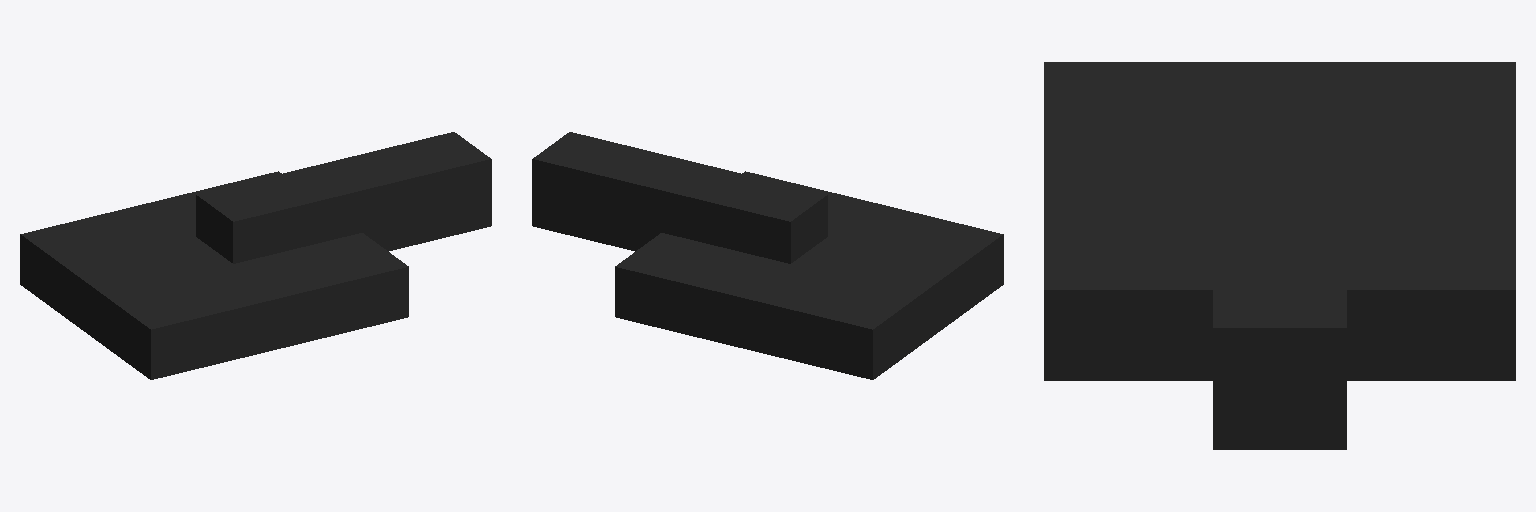
robot.urdf — rover:
<?xml version="1.0" ?>
<robot name="rover">
    <!-- main center object -->
    <link name="base_link">
        <visual>
            <geometry>
                <box size="0.4 0.35 0.075"/>
            </geometry>
            <material name="gray">
                <color rgba="0.2 0.2 0.2 1"/>
            </material>
        </visual>
        <inertial>
            <mass value="2"/>
            <inertia ixx="0.04" ixy="0.0" ixz="0.0" iyy="0.17" iyz="0.0" izz="0.25" />
            <!--<inertia ixx="0.04" ixy="0.0" ixz="0.0" iyy="0.17" iyz="0.0" izz="0.25" />-->
        </inertial>

        <collision>
            <geometry>
                <box size="0.4 0.35 0.1"/>
            </geometry>
        </collision>
    </link>

    <!-- Robot Footprint -->
    <link name="base_footprint"/>

    <link name = "wall_link">
        <visual>
            <geometry>
                <box size = "0.4 0.1 0.1"/>
            </geometry>
            <material name = "gray">
                <color rgba = "0.2 0.2 0.2 1"/>
            </material>
            <interial>
                <mass value = "0.5"/>
                <!--w = 0.05 h = 0.1 d = 0.7 m = 0.5-->
                <interia ixx = "0.0208" ixy = "0.0" ixz = "0.0" iyy = "0.0205" izz = "0.0005208" />
            </interial>
            <collision>
                <geometry>
                    <box size = "0.05 0.7 0.1"/>
                </geometry>
            </collision>
        </visual>
    </link> 
	
	<joint name = "wall_joint" type = "fixed">
    	<origin xyz = "0.2 0 0.05" rpy = "0.0 0.0 0.0"/>
      	<parent link = "base_link"/>
      	<child link = "wall_link"/>
	</joint>

    <joint name="base_joint" type="fixed">
        <parent link="base_link"/>
        <child link="base_footprint"/>
        <origin xyz="0.0 0.0 -0.075" rpy="0 0 0"/>
    </joint>

    <link name="lidar_link">
    <inertial>
        <mass value="0.5"/>
        <inertia ixx="0.01" ixy="0.0" ixz="0" iyy="0.01" iyz="0" izz="0.01"/>
    </inertial>
    <visual>
        <geometry>
        <cylinder radius="0.05" length="0.05"/>
        </geometry>
        <material name="red">
        <color rgba="1 0 0 0.7"/>
        </material>
    </visual>
    </link>

    <!--add lidar joint-->
    <joint name = "lindar_joint" type = "fixed">
        <origin xyz="0.3 0.0 0.05" rpy="0.0 0.0 0.0"/>
        <parent link = "base_link"/>
        <child link="lidar_link"/>
        <axis xyz="0.0 0.0 0.0"/>
    </joint>

</robot>

--- Facts derived from the render (not from the file) ---
3 views of the same robot in one strip: view 1: azimuth 30°, elevation 25°; view 2: azimuth 150°, elevation 25°; view 3: azimuth 270°, elevation 25° (orthographic).
Model rover with 4 links and 3 joints (3 fixed), rooted at base_link, posed every joint at zero.
Links seen in each view (by area): view 1: base_link, wall_link; view 2: base_link, wall_link; view 3: base_link, wall_link.
Link boxes in pixels (box(x1,y1,x2,y2)): base_link: box(20, 171, 408, 379); wall_link: box(196, 132, 491, 263); base_link: box(615, 171, 1003, 379); wall_link: box(532, 132, 827, 263); base_link: box(1044, 62, 1515, 380); wall_link: box(1213, 100, 1346, 449).
Bounding box of the posed robot: 0.6 × 0.35 × 0.1375 m (x, y, z).
Geometry: primitives only (box / cylinder / sphere), no mesh files.